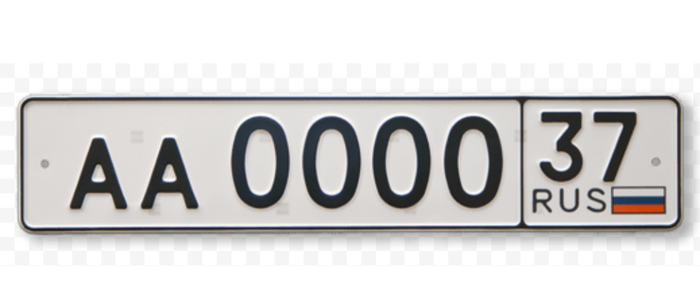number_plate: (28, 104, 676, 228)
